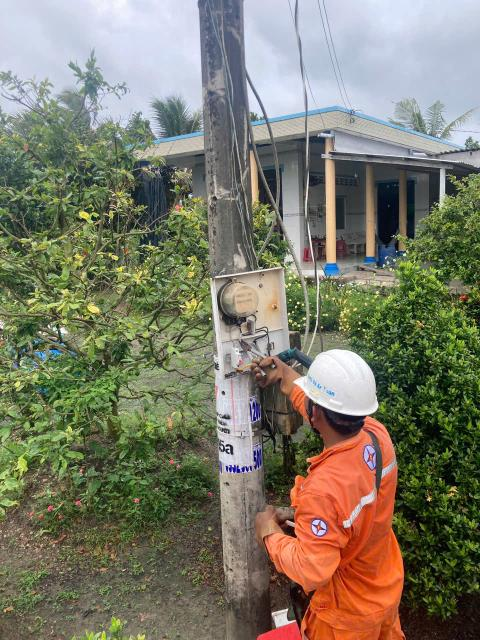gloves: (240, 348, 302, 400), (233, 498, 284, 543)
helmet: (289, 335, 392, 425)
